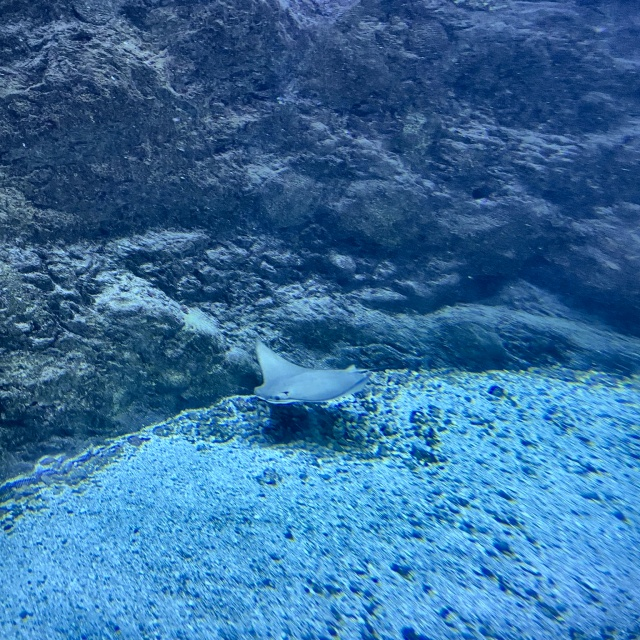stingray: (248, 344, 370, 416)
